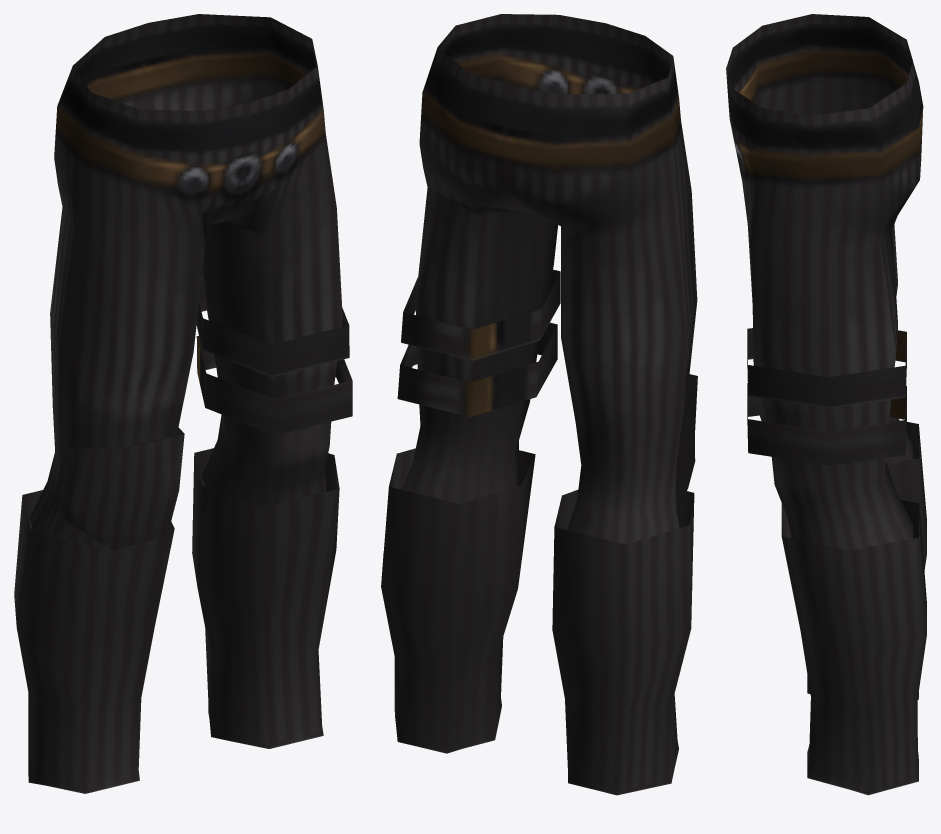
Rendered from hum_pimp_01_9a765966.glb.
3 renders of one model, left to right at view 1: azimuth 30°, elevation 25°; view 2: azimuth 150°, elevation 25°; view 3: azimuth 270°, elevation 25°, orthographic. The views are drawn at different scales.
Bounding box in the file's own units: 0.612 × 1.34 × 0.3526.
1 material, 1 textured.
